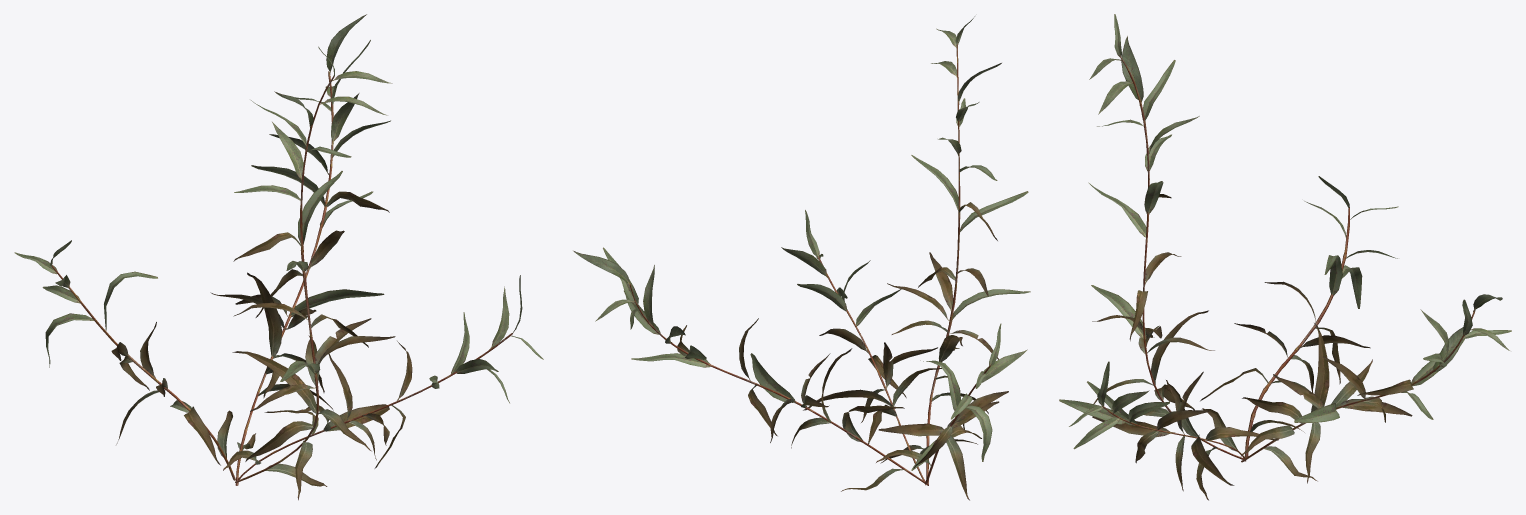
File: shrub_d.glb
3 views of the same model, side by side, from view 1: azimuth 30°, elevation 25°; view 2: azimuth 150°, elevation 25°; view 3: azimuth 270°, elevation 25° (orthographic). The views are drawn at different scales.
Parts seen in each view (by area): view 1: shrub_d; view 2: shrub_d; view 3: shrub_d.
Boxes of the visible parts, x1,y1,x2,y2 form: shrub_d: (14, 14, 543, 500); shrub_d: (573, 16, 1030, 500); shrub_d: (1059, 14, 1511, 500).
Bounding box in the file's own units: 1.08 × 1.23 × 1.1.
1 material, 1 textured.
